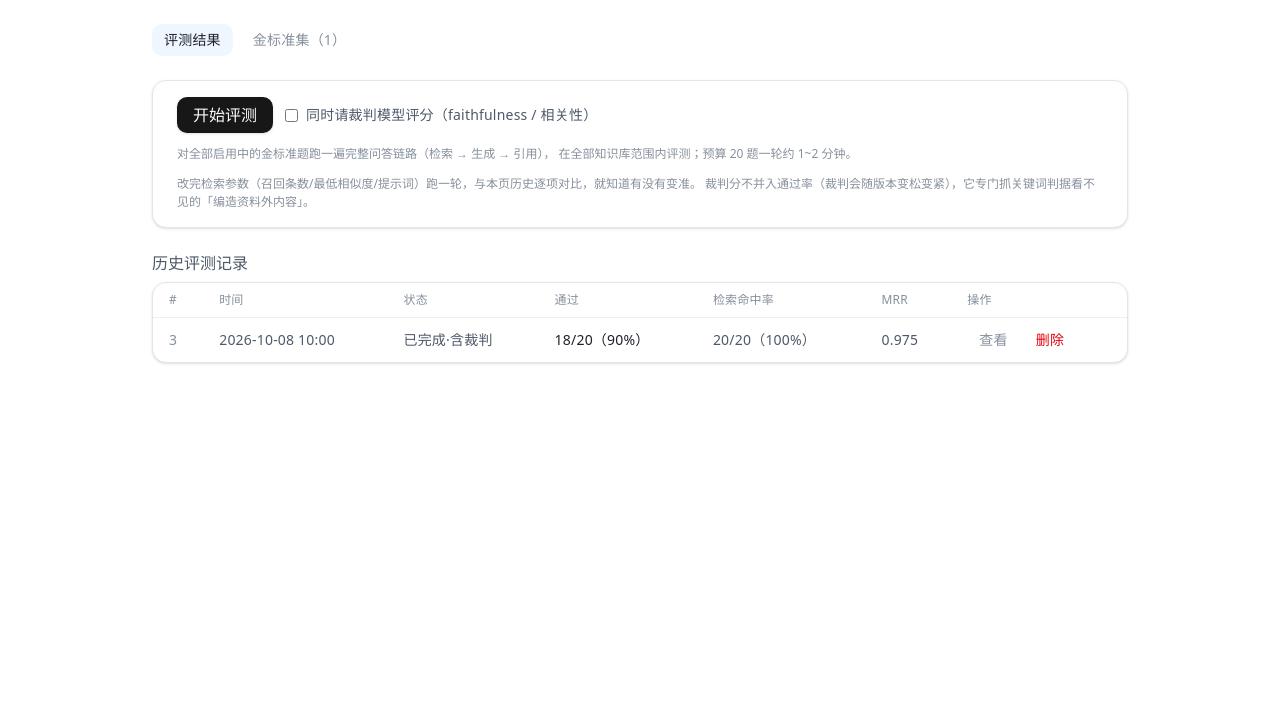
Test: 评测页 › 勾上裁判再起评测：body 带 judge=true，结果里裁判分单独一段
Step 1. Click the checkbox labelled "请裁判模型评分" → point(292, 115), box [285,108,298,122]
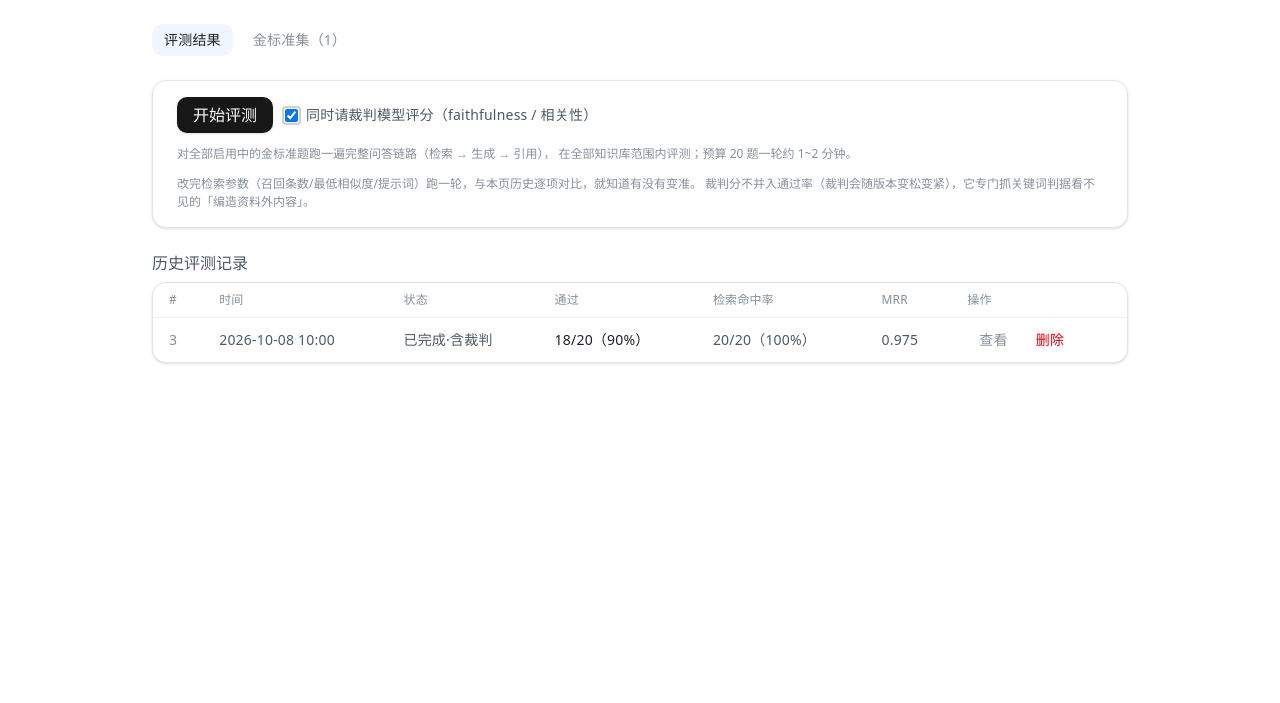
Step 2. Click the button "开始评测" → point(225, 115), box [177,97,273,133]
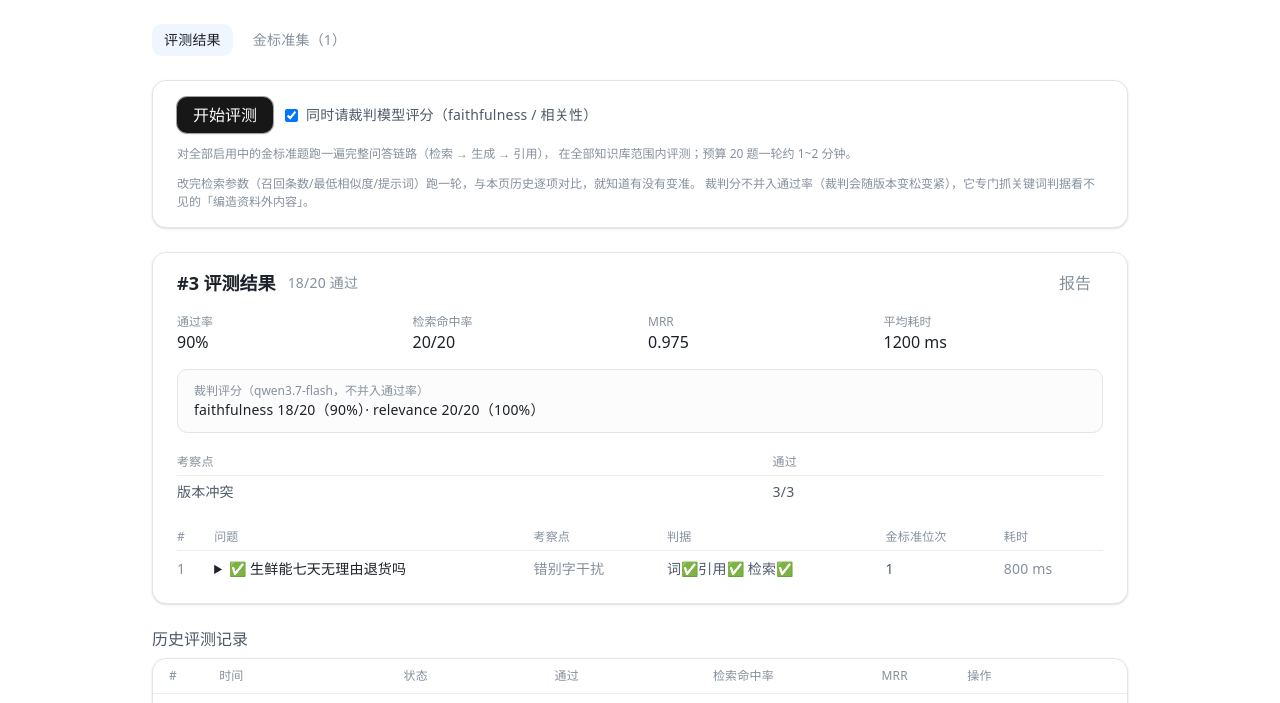
Check: the text "裁判评分（qwen3.7-flash，不并入通过率）" is shown, box [194,382,429,399]
Check: the text "faithfulness 18/20（90%）· relevance 20/20（100%）" is shown, box [194,400,545,419]
Note: 逐题能看到裁判判词与理由（"为什么扣分"要落到题上才有用）
Step 3. Click the heading "✅ 生鲜能七天无理由退货吗" → point(318, 568), box [229,559,406,578]
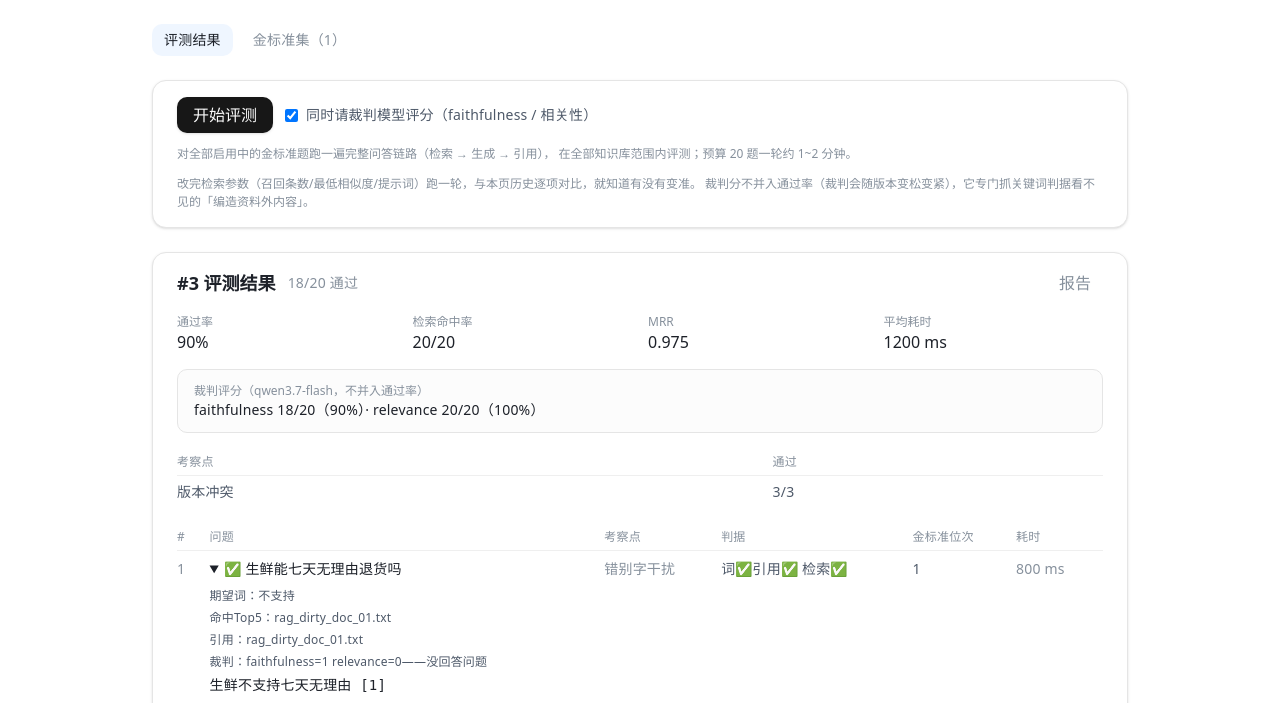
Check: the text "裁判：faithfulness=1 relevance=0——没回答问题" is shown, box [210,653,487,670]
